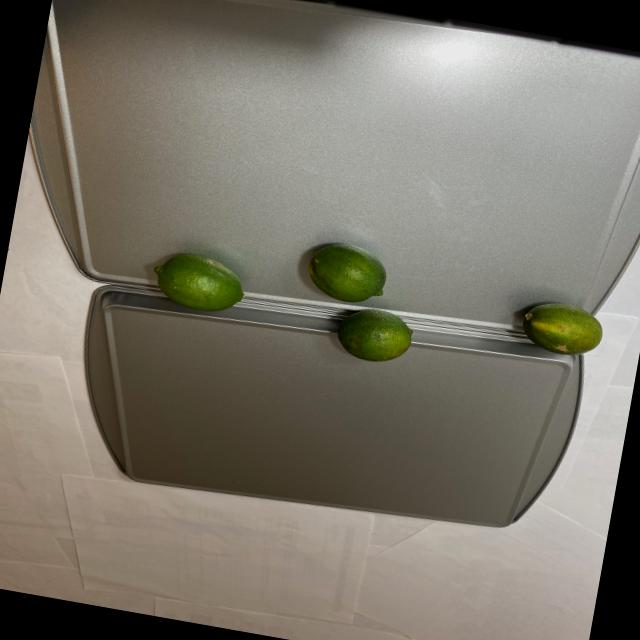lemon: (146, 215, 616, 402)
